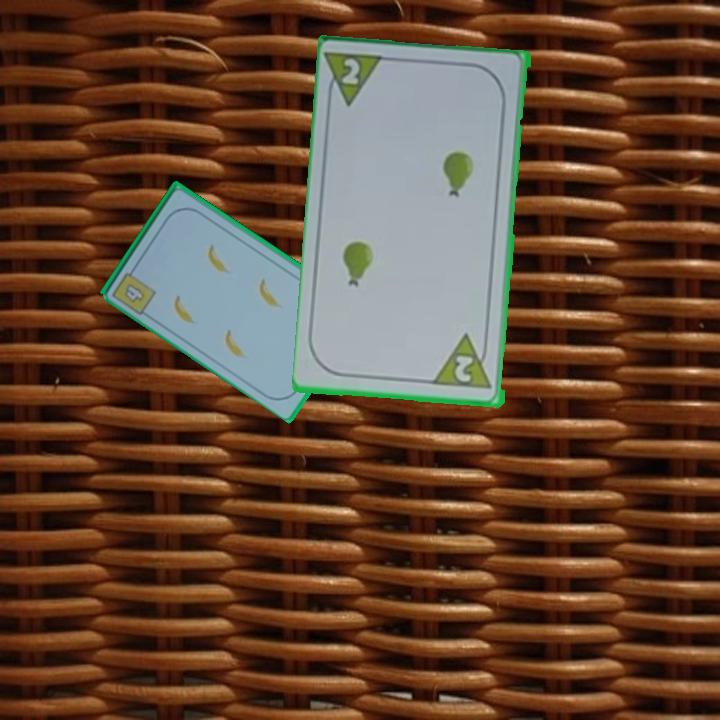2p: (324, 48, 390, 111), (451, 352, 479, 386)
4b: (108, 262, 159, 318)
